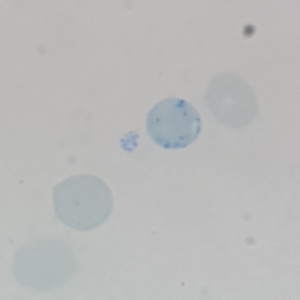aggregate reticulocyte: (143, 96, 204, 151)
erythrocyte: (9, 233, 80, 293), (203, 70, 259, 130)
punctate reticulocyte: (50, 173, 116, 233)
